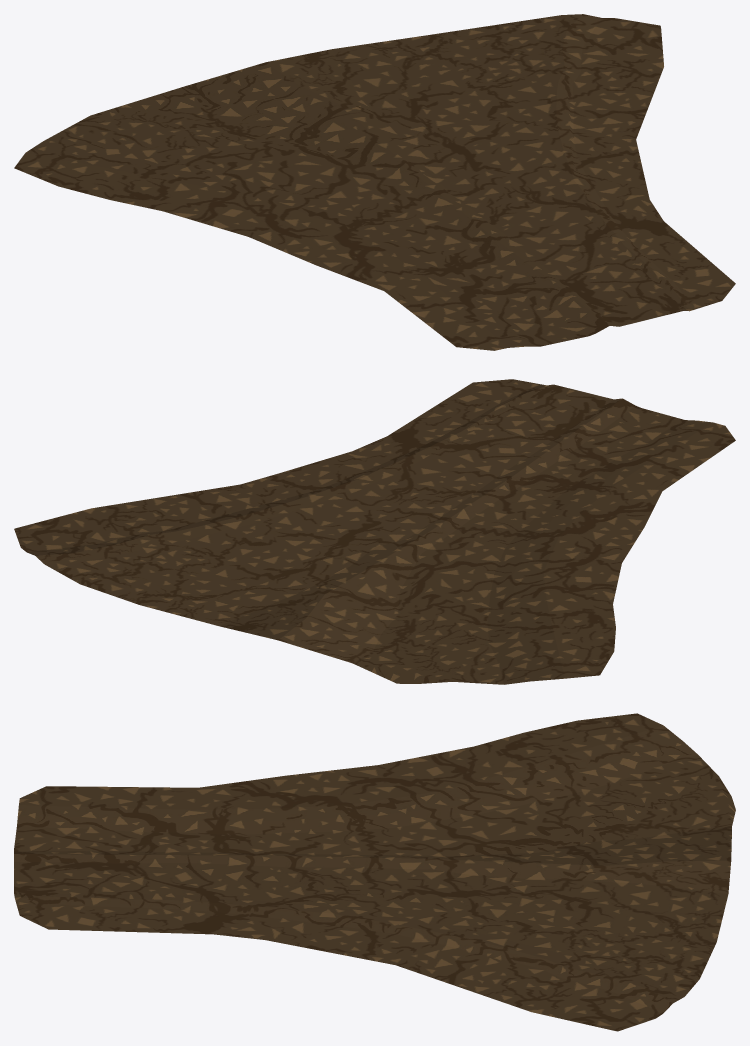
File: SM_Env_Road_Dirt_End_01.fbx
3 views of the same model, one above another, from view 1: azimuth 30°, elevation 25°; view 2: azimuth 150°, elevation 25°; view 3: azimuth 270°, elevation 25° (orthographic). The views are drawn at different scales.
Visible parts, largest first — view 1: Plane; view 2: Plane; view 3: Plane.
Part boxes in pixels (x1,y1,x2,y2): Plane: [14, 14, 735, 350]; Plane: [14, 379, 735, 684]; Plane: [14, 713, 735, 1031].
Bounding box in the file's own units: 1536 × 32.52 × 1500.
